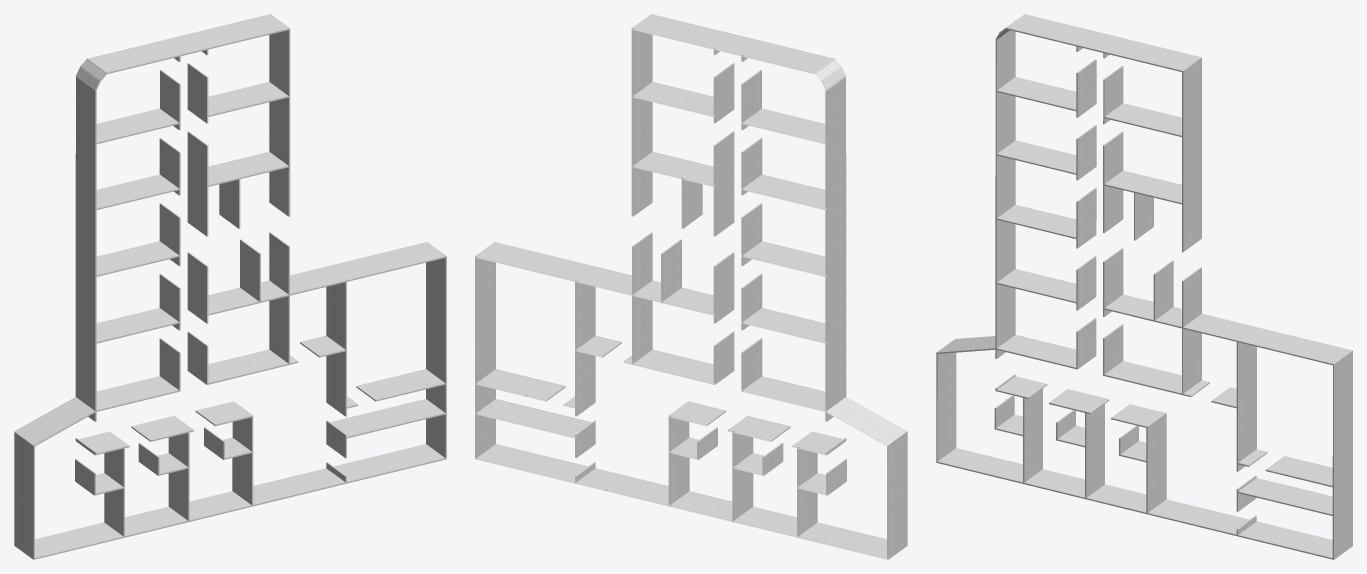
The model's file is wall_1.obj.
The picture shows the model from 3 angles, left to right: view 1: azimuth 30°, elevation 25°; view 2: azimuth 150°, elevation 25°; view 3: azimuth 330°, elevation 25°; orthographic projection. The views are drawn at different scales.
Parts seen in each view (by area): view 1: walls; view 2: walls; view 3: walls.
Boxes of the visible parts, x1,y1,x2,y2 form: walls: [14, 14, 446, 559]; walls: [475, 14, 907, 559]; walls: [936, 14, 1352, 559].
Size of the model in its own units: 30.58 by 33.2 by 2.5.
1 material, 1 textured.
